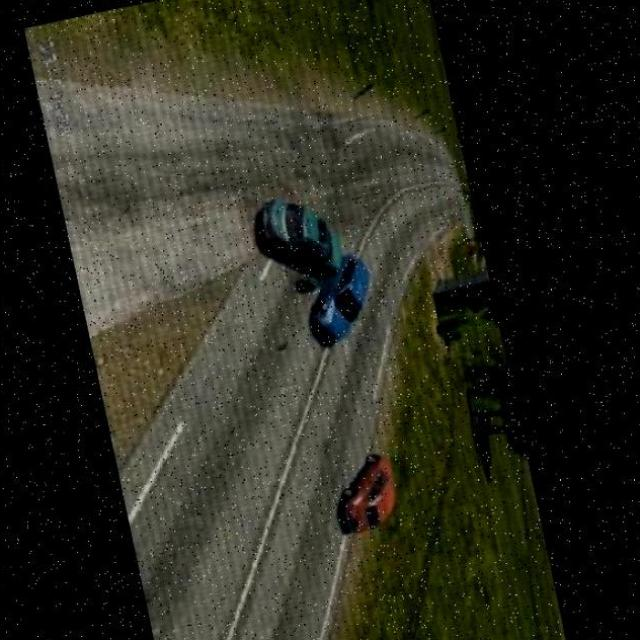accident: (280, 203, 376, 325)
